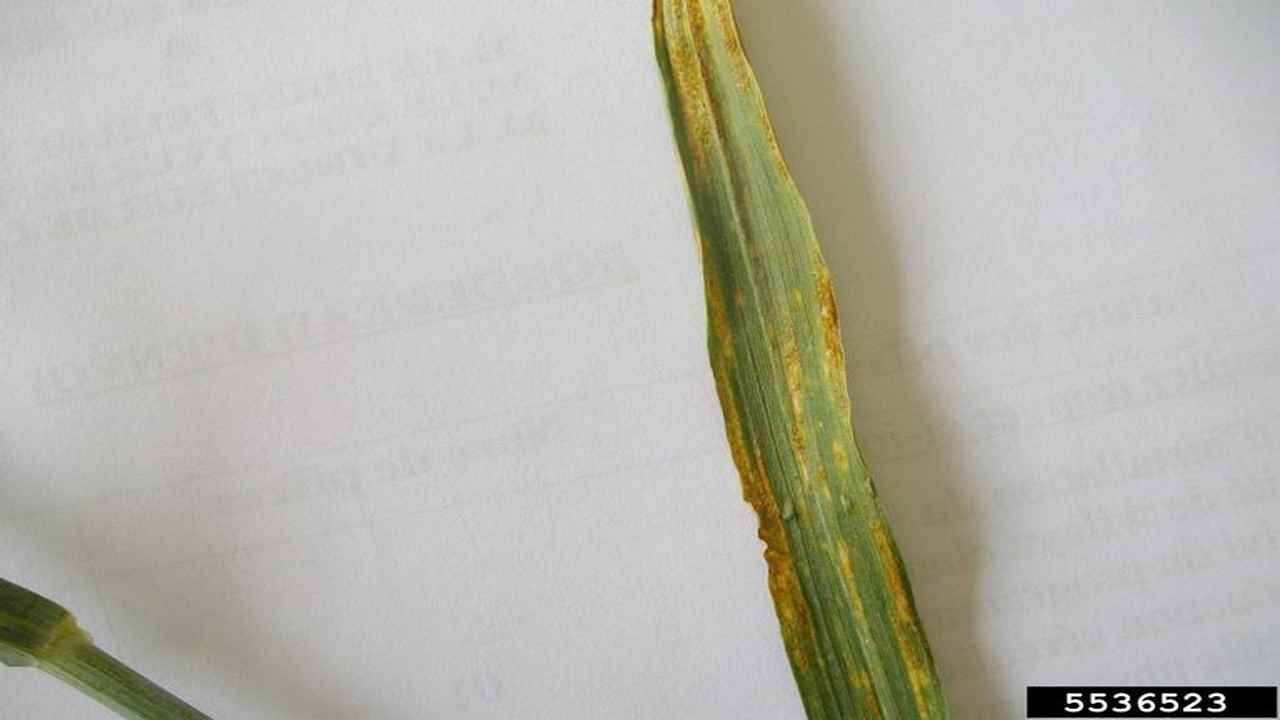stripe_rust: (652, 1, 950, 720)
